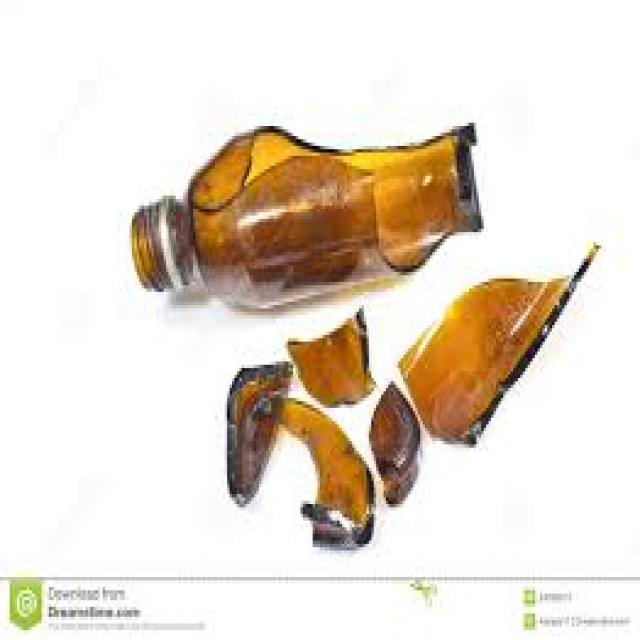glass: (127, 116, 484, 302), (396, 242, 596, 441), (252, 391, 371, 547), (225, 358, 291, 501), (283, 309, 374, 402), (367, 378, 420, 504)
